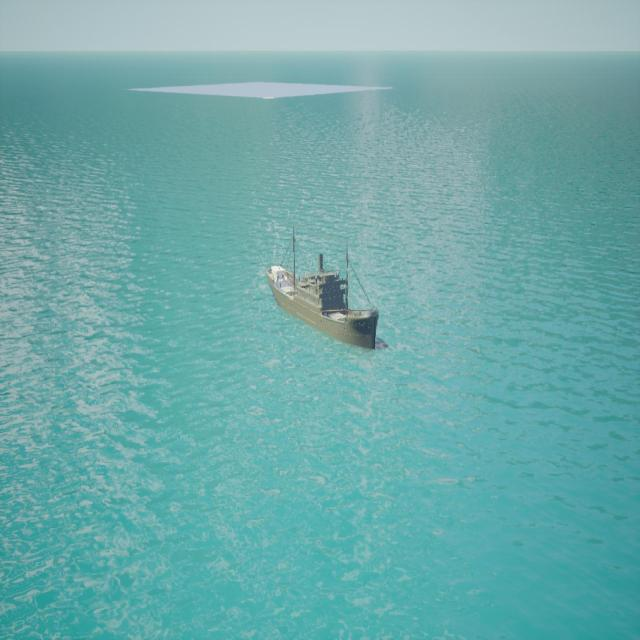fishing ship: (266, 240, 382, 353)
